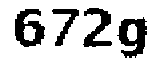2: (83, 6, 114, 51)
6: (11, 7, 46, 52)
7: (47, 7, 79, 49)
g: (116, 17, 151, 60)
